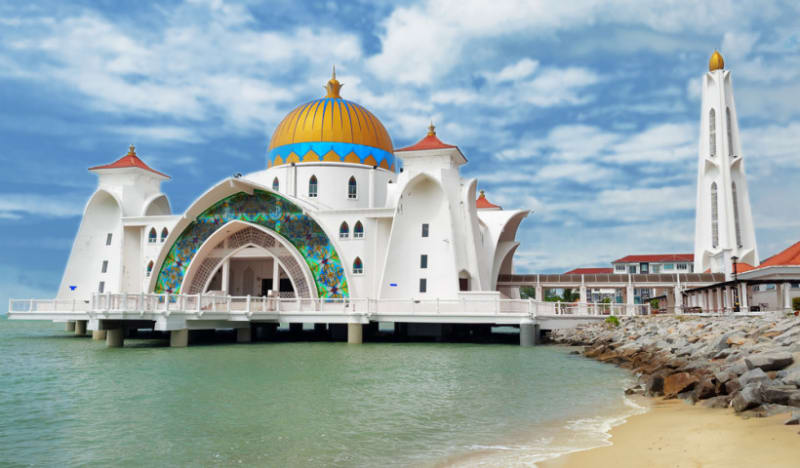Mosque: (55, 79, 524, 328)
